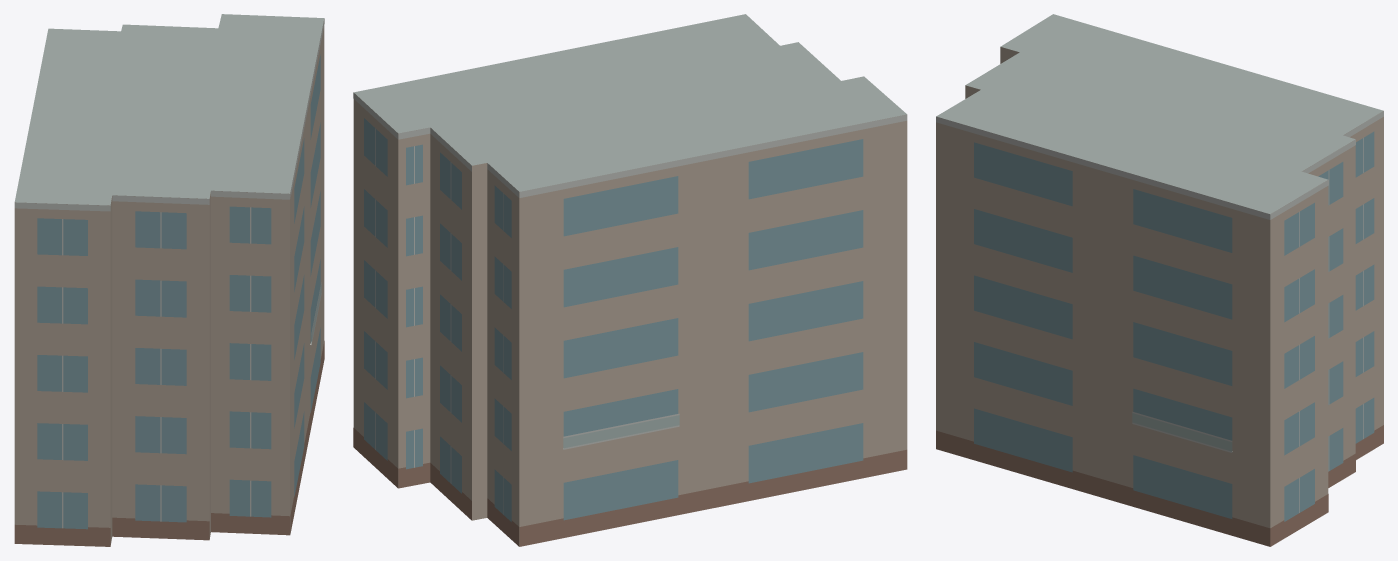
Rendered from survey-upis-32619785.glb.
3 views of the same model, side by side, from view 1: azimuth 30°, elevation 25°; view 2: azimuth 150°, elevation 25°; view 3: azimuth 270°, elevation 25° (orthographic). The views are drawn at different scales.
Parts seen in each view (by area): view 1: survey-upis-32619785.tmp; view 2: survey-upis-32619785.tmp; view 3: survey-upis-32619785.tmp.
Boxes of the visible parts, x1,y1,x2,y2 form: survey-upis-32619785.tmp: [14, 14, 324, 546]; survey-upis-32619785.tmp: [353, 14, 907, 546]; survey-upis-32619785.tmp: [936, 14, 1383, 546].
Size of the model in its own units: 17.96 by 13.9 by 16.97.
